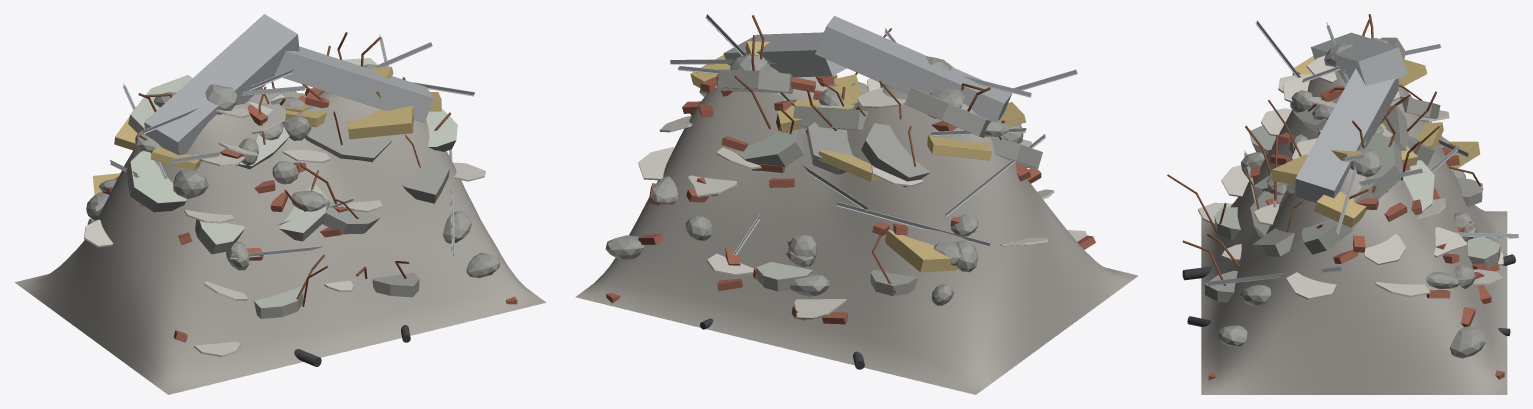
Rendered from siment 1.fbx.
3 views of the same model, side by side, from view 1: azimuth 30°, elevation 25°; view 2: azimuth 150°, elevation 25°; view 3: azimuth 270°, elevation 25° (orthographic). The views are drawn at different scales.
Visible parts, largest first — view 1: 04_Collapsed_Corridor_Barricade_Steel_Grid_And_AirDucts; view 2: 04_Collapsed_Corridor_Barricade_Steel_Grid_And_AirDucts; view 3: 04_Collapsed_Corridor_Barricade_Steel_Grid_And_AirDucts.
Part boxes in pixels (x1=…): 04_Collapsed_Corridor_Barricade_Steel_Grid_And_AirDucts: x1=15, y1=14, x2=545, y2=394; 04_Collapsed_Corridor_Barricade_Steel_Grid_And_AirDucts: x1=575, y1=14, x2=1138, y2=394; 04_Collapsed_Corridor_Barricade_Steel_Grid_And_AirDucts: x1=1167, y1=14, x2=1518, y2=394.
Size of the model in its own units: 352 by 232 by 285.
